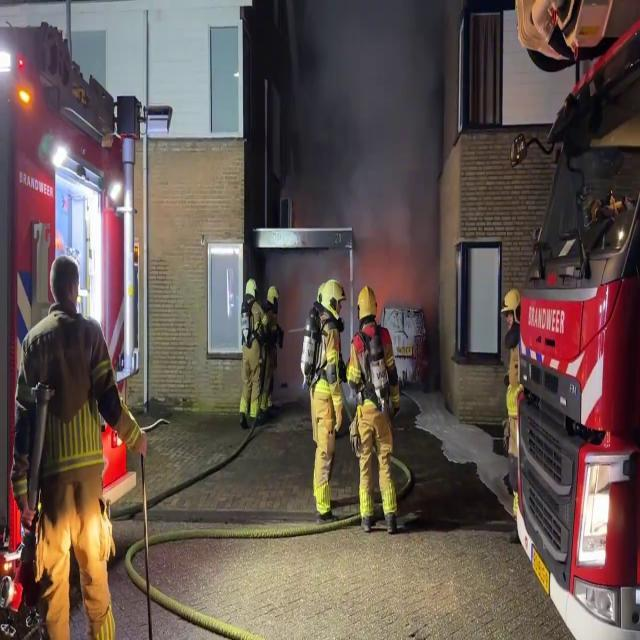Smoke: (284, 0, 458, 281)
